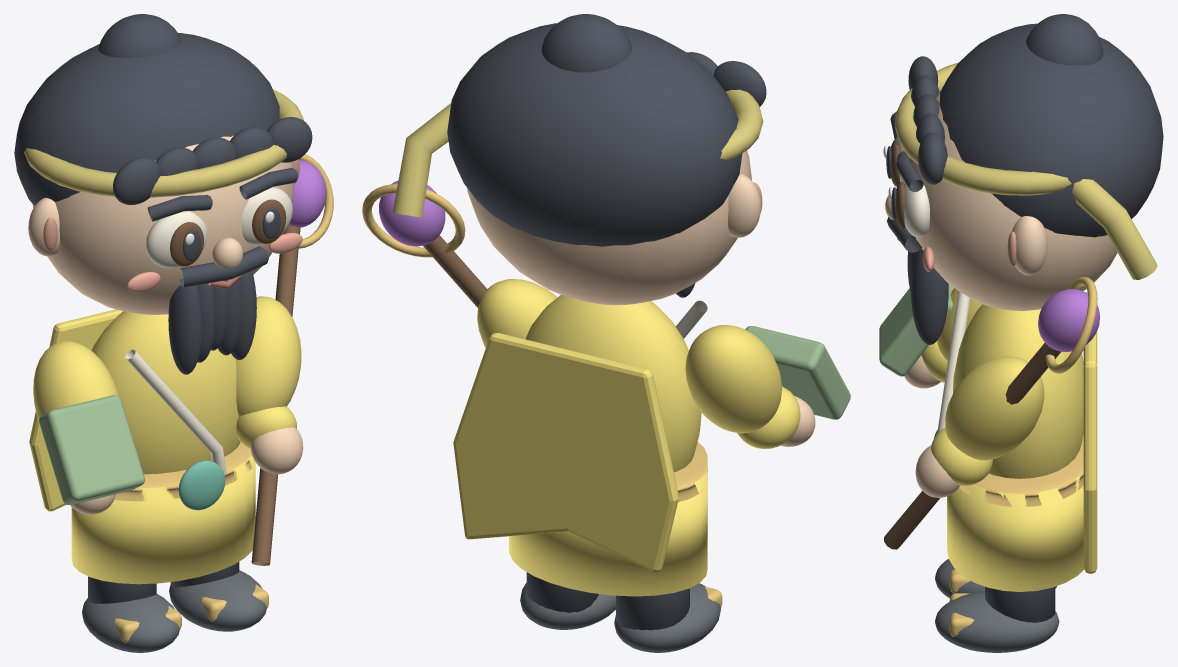
Rendered from yt_zhangjiao.fbx.
3 renders of one model, left to right at view 1: azimuth 30°, elevation 25°; view 2: azimuth 150°, elevation 25°; view 3: azimuth 270°, elevation 25°, orthographic. The views are drawn at different scales.
Visible parts, largest first — view 1: hair_mass, robe_skirt, face, body, medicine_book, headband, sleeve, sleeve.001, boot, boot.001, cape, spell_staff (+34 smaller); view 2: hair_mass, cape, face, body, robe_skirt, sleeve.001, medicine_book, hair_bun, sleeve, headband_tail, boot, leg (+11 smaller); view 3: hair_mass, face, robe_skirt, body, sleeve, headband, boot.001, cape, headband_tail, hair_bun, belt, medicine_book (+22 smaller).
Boxes of the visible parts, x1,y1,x2,y2 form: hair_mass: (14,32,279,205); robe_skirt: (71,455,255,584); face: (32,135,294,314); body: (91,311,240,474); medicine_book: (39,395,144,504); headband: (24,89,303,197); sleeve: (236,296,301,416); sleeve.001: (33,341,119,421); boot: (82,594,179,652); boot.001: (169,570,266,631); cape: (29,309,122,511); spell_staff: (251,225,300,565); hair_mass: (447,23,742,246); cape: (453,333,678,572); face: (467,150,751,305); body: (525,295,701,472); robe_skirt: (509,466,707,596); sleeve.001: (685,325,781,433); medicine_book: (745,326,850,419); hair_bun: (541,14,631,72); sleeve: (477,279,557,347); headband_tail: (392,103,451,217); boot: (614,583,720,652); leg: (616,588,689,630); hair_mass: (939,23,1163,237); face: (904,91,1131,310); robe_skirt: (947,476,1084,591); body: (953,304,1083,478); sleeve: (945,356,1044,460); headband: (895,62,1071,195); boot.001: (935,591,1059,652); cape: (1083,291,1097,573); headband_tail: (1072,179,1157,279); hair_bun: (1026,14,1103,65); belt: (959,434,1083,506); medicine_book: (879,284,953,376).
Size of the model in its own units: 1.55 by 2.46 by 1.05.
